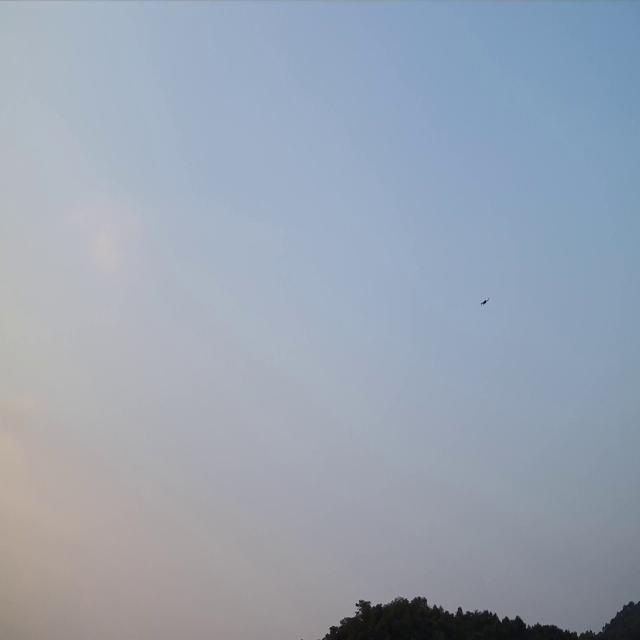UAV: (480, 296, 490, 307)
